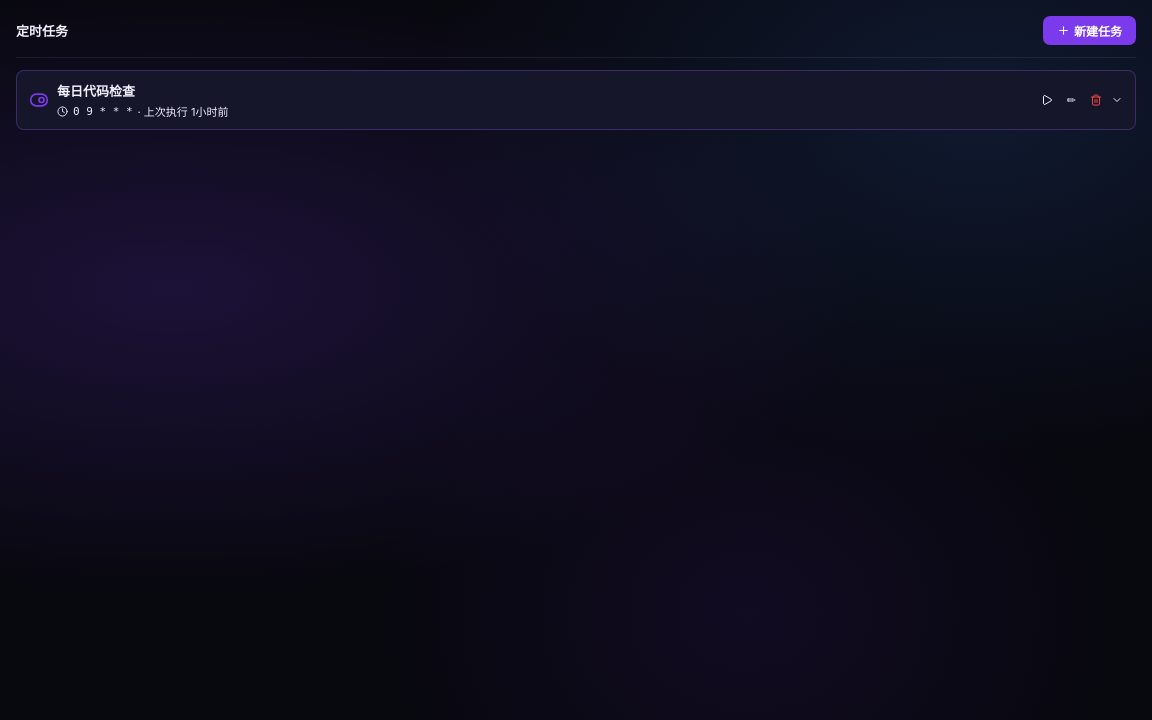
Scenario: RoutinesPanel - 交互 › 点击「新建任务」应显示创建表单
Click the button "新建任务" at x=1090, y=30, box [1043,16,1136,45]
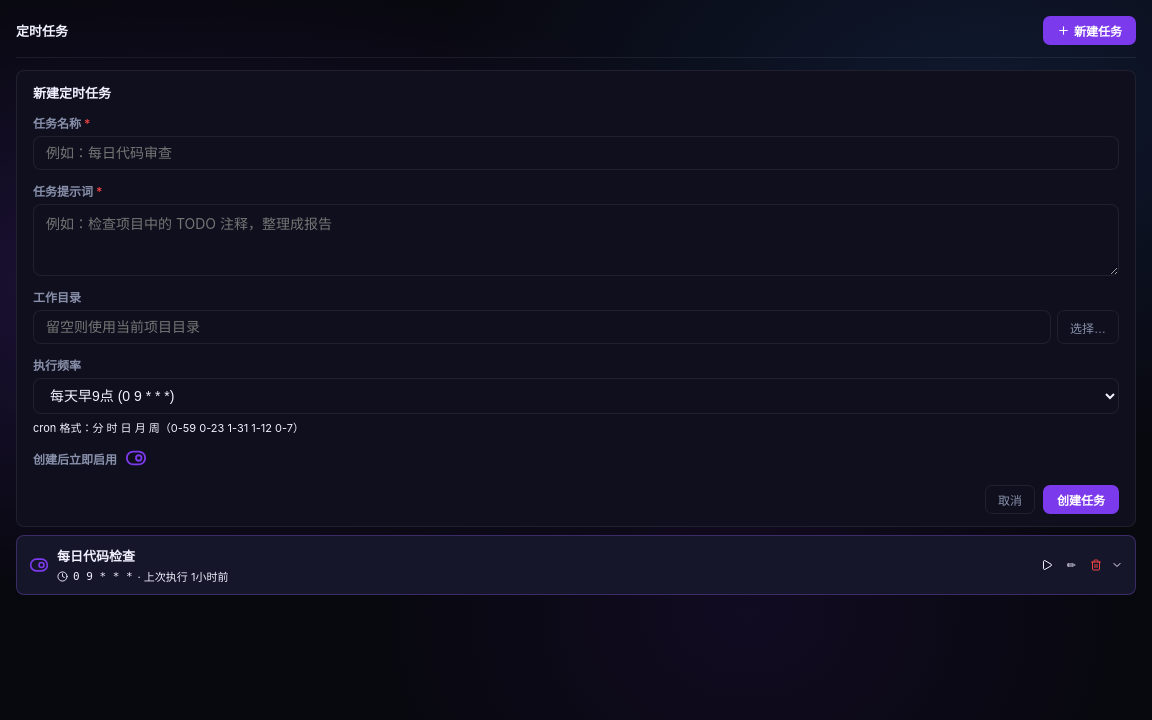
Expected: the text "新建定时任务" is shown, [33,85,111,101]
